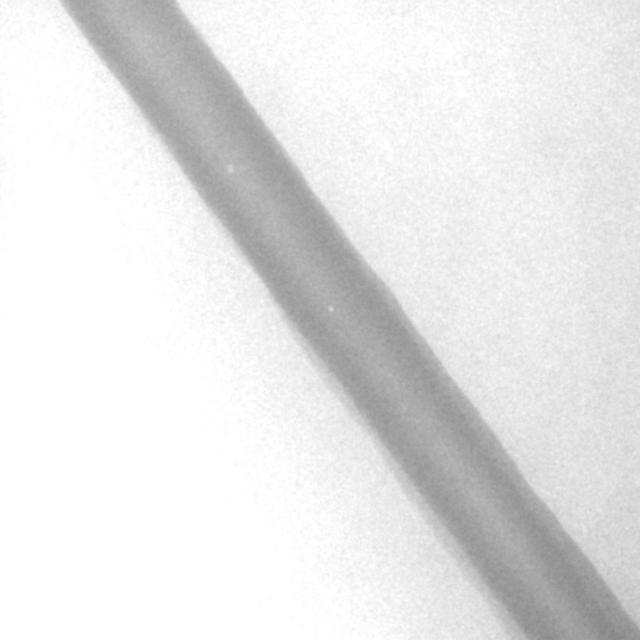air hole: (225, 161, 235, 174), (326, 302, 335, 314)
